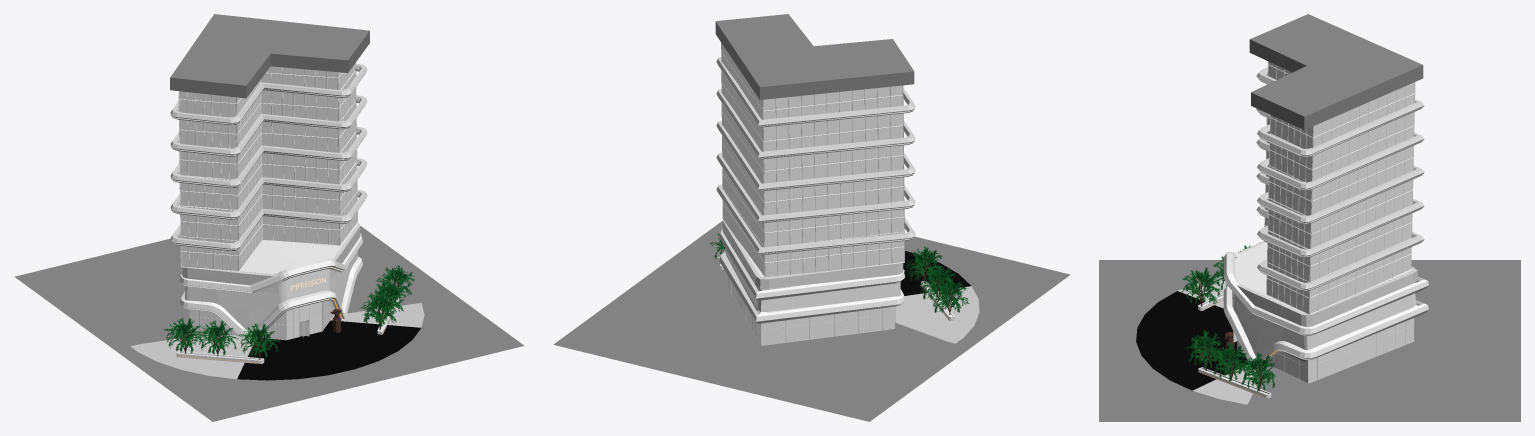
The model's file is building.glb.
3 views of the same model, side by side, from view 1: azimuth 30°, elevation 25°; view 2: azimuth 150°, elevation 25°; view 3: azimuth 270°, elevation 25° (orthographic). The views are drawn at different scales.
Visible parts, largest first — view 1: Plane, floors, rooftop, tiles, elevation, hero, floors.001, hero.elevation, groundfloor, hero.001, leaves.001, leaves.003 (+5 smaller); view 2: Plane, floors, rooftop, elevation, floors.001, hero.elevation, tiles, groundfloor, hero, hero.001, leaves.003, leaves.001 (+2 smaller); view 3: Plane, floors, rooftop, elevation, tiles, hero.elevation, hero, floors.001, groundfloor, hero.001, leaves.001, leaves.004 (+4 smaller).
Boxes of the visible parts, x1,y1,x2,y2 form: Plane: (14, 226, 524, 421); floors: (179, 63, 357, 270); rooftop: (170, 14, 369, 98); tiles: (130, 303, 424, 380); elevation: (170, 63, 367, 250); hero: (181, 224, 361, 332); floors.001: (178, 63, 357, 271); hero.elevation: (179, 236, 362, 341); groundfloor: (189, 290, 353, 339); hero.001: (182, 223, 360, 285); leaves.001: (238, 323, 280, 358); leaves.003: (164, 318, 206, 353); Plane: (553, 220, 1070, 421); floors: (721, 43, 904, 277); rooftop: (715, 14, 914, 99); elevation: (716, 57, 915, 255); floors.001: (721, 42, 904, 277); hero.elevation: (719, 231, 904, 323); tiles: (717, 251, 979, 343); groundfloor: (729, 278, 894, 345); hero: (721, 229, 904, 314); hero.001: (722, 220, 903, 289); leaves.003: (931, 278, 969, 312); leaves.001: (906, 246, 943, 280); Plane: (1099, 260, 1520, 421); floors: (1265, 62, 1414, 313); rooftop: (1249, 14, 1423, 129); elevation: (1256, 67, 1424, 291); tiles: (1136, 276, 1263, 404); hero.elevation: (1223, 252, 1428, 364); hero: (1232, 242, 1419, 357); floors.001: (1264, 61, 1415, 314); groundfloor: (1237, 318, 1414, 383); hero.001: (1237, 241, 1417, 326); leaves.001: (1181, 267, 1223, 304); leaves.004: (1237, 352, 1275, 391).
Size of the model in its own units: 58.9 by 46.91 by 64.89.
